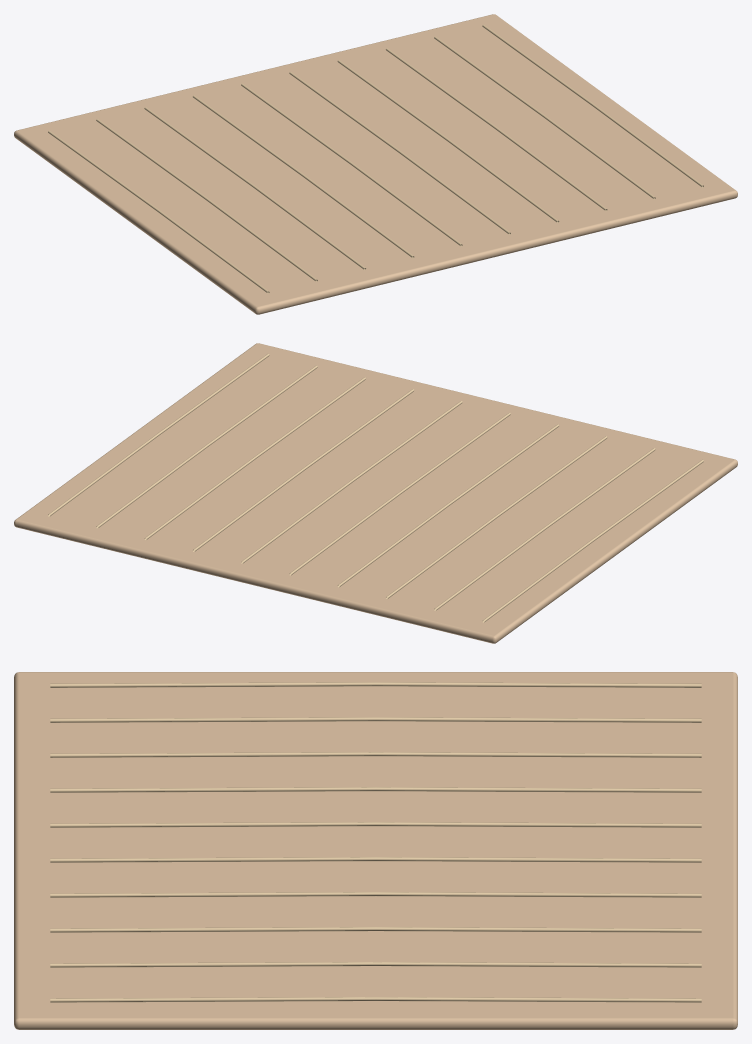
The model's file is atelier-throw-blanket.glb.
The picture shows the model from 3 angles, top to bottom: view 1: azimuth 30°, elevation 25°; view 2: azimuth 150°, elevation 25°; view 3: azimuth 270°, elevation 25°; orthographic projection. The views are drawn at different scales.
Parts seen in each view (by area): view 1: bedding.015, accent.030; view 2: bedding.015, accent.030; view 3: bedding.015, accent.030.
Part boxes in pixels (x1,y1,x2,y2): bedding.015: (14,14,737,314); accent.030: (48,25,703,293); bedding.015: (14,343,737,643); accent.030: (48,354,703,622); bedding.015: (14,672,737,1029); accent.030: (50,682,701,1002).
Bounding box in the file's own units: 1.6 × 0.036 × 1.4.
